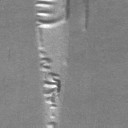slag inclusion: (34, 0, 71, 126), (83, 0, 90, 29)
